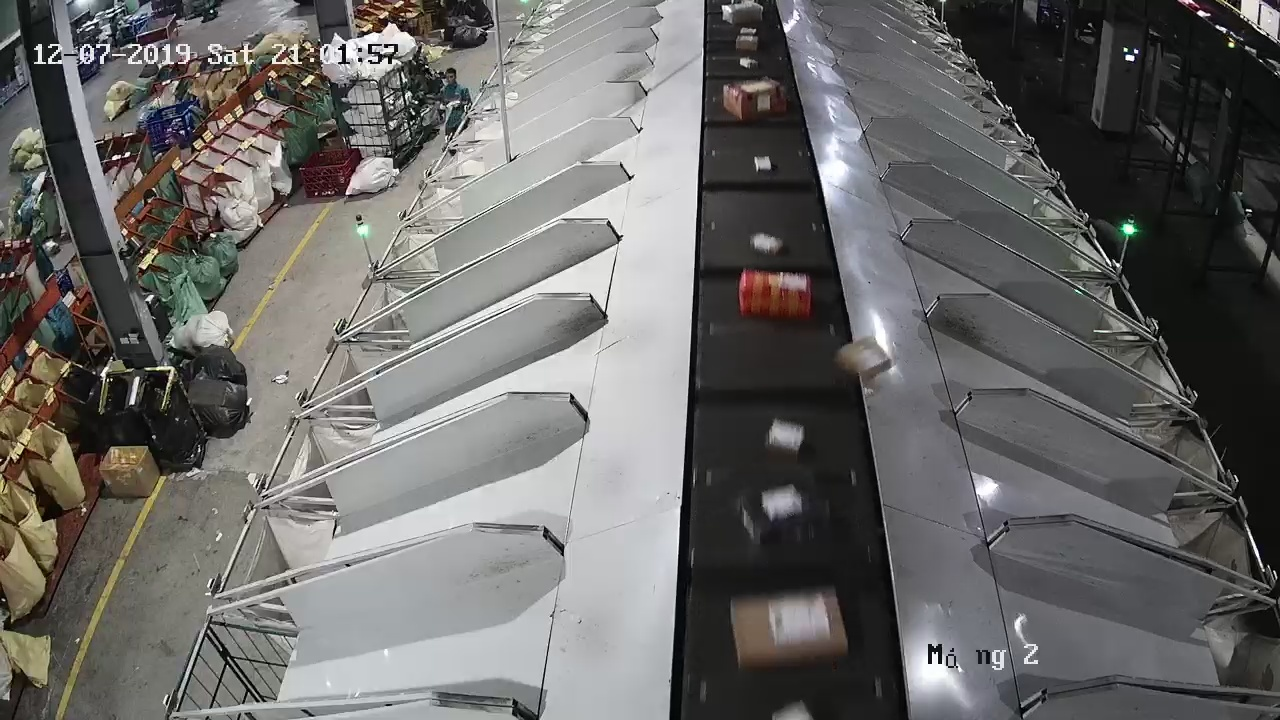parcel: (833, 333, 893, 384)
